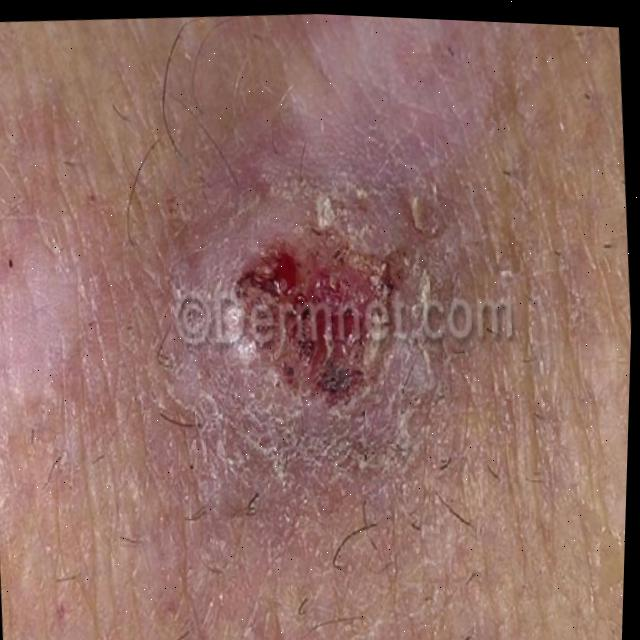Eczema: (207, 172, 460, 432)
